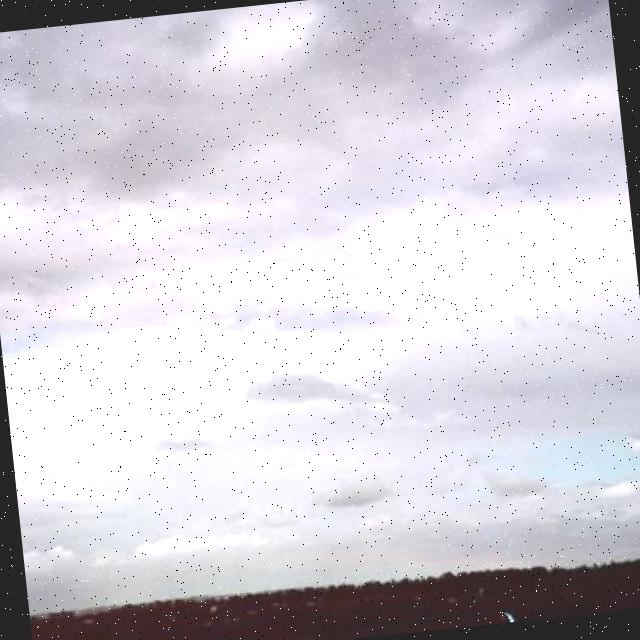Ns: (1, 1, 640, 529)
